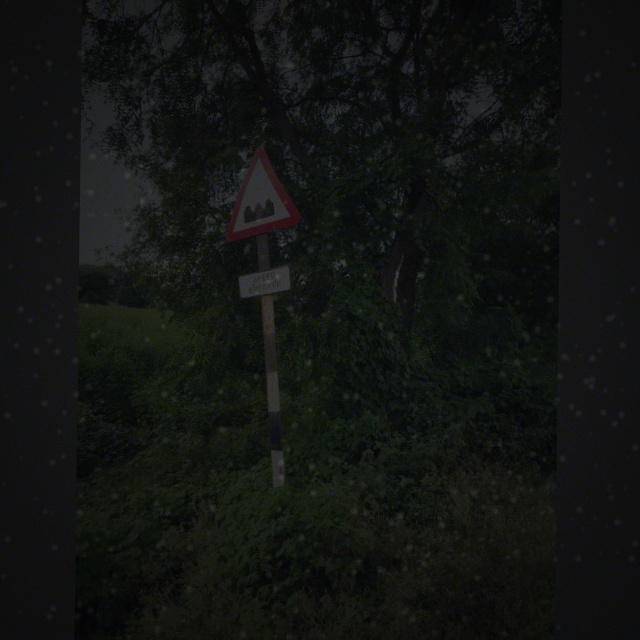Hump_or_Rough_Road: (223, 144, 305, 240)
